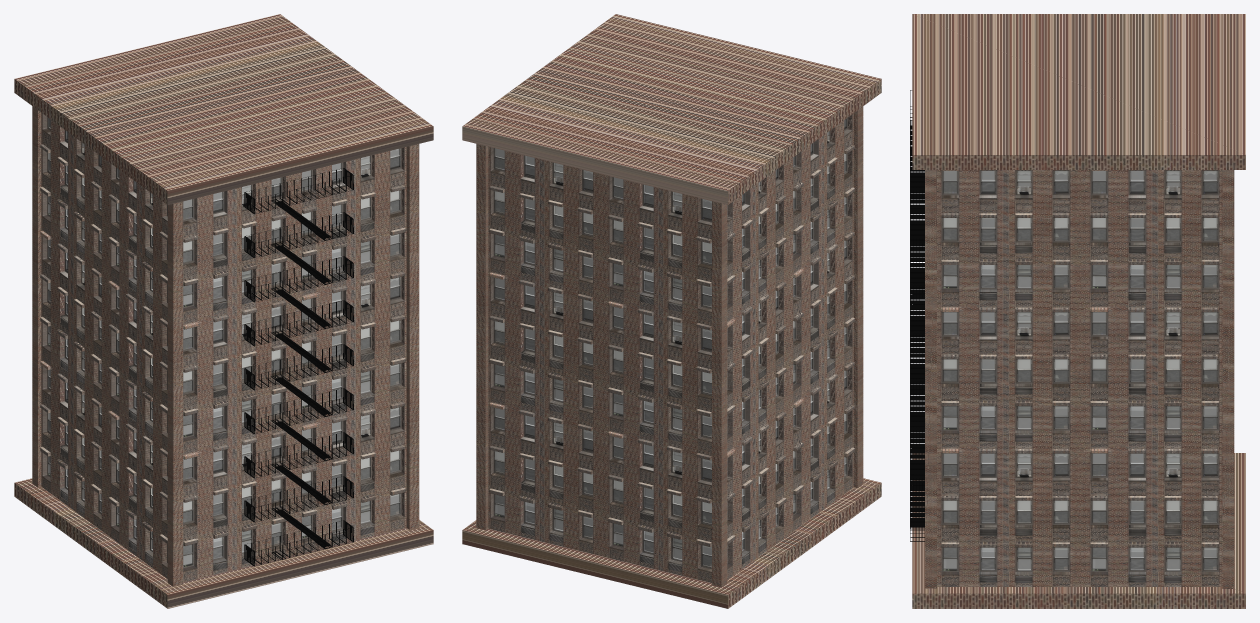
The model's file is building_02.glb.
The picture shows the model from 3 angles, left to right: view 1: azimuth 30°, elevation 25°; view 2: azimuth 150°, elevation 25°; view 3: azimuth 270°, elevation 25°; orthographic projection. The views are drawn at different scales.
Parts seen in each view (by area): view 1: Cube.004_0; view 2: Cube.004_0; view 3: Cube.004_0.
Boxes of the visible parts, x1,y1,x2,y2 form: Cube.004_0: (14, 14, 433, 608); Cube.004_0: (462, 14, 881, 608); Cube.004_0: (910, 14, 1245, 608).
Size of the model in its own units: 2.14 by 3.21 by 2.16.
5 materials, 4 textured.
